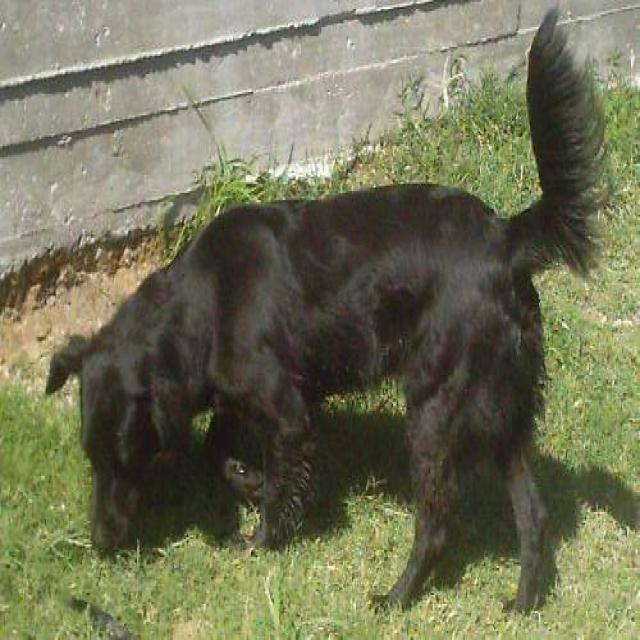dog: (43, 5, 612, 615)
